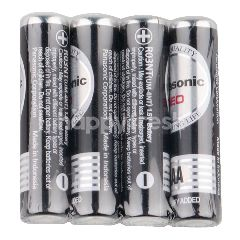Battery: (168, 13, 224, 229), (69, 12, 120, 228), (18, 11, 69, 226), (121, 14, 169, 229)
